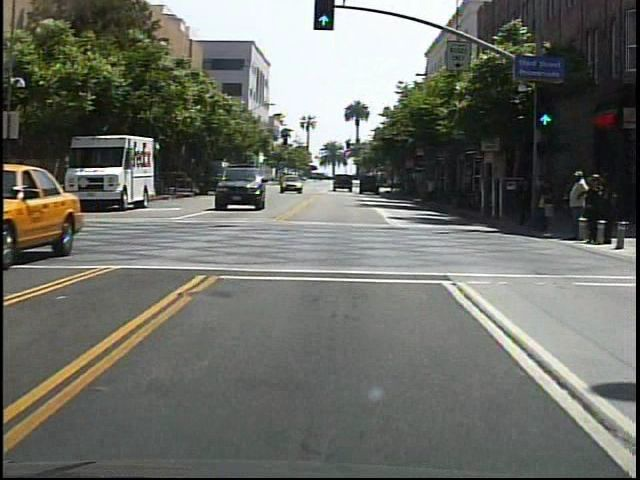person: (561, 166, 590, 243), (513, 162, 534, 229)
